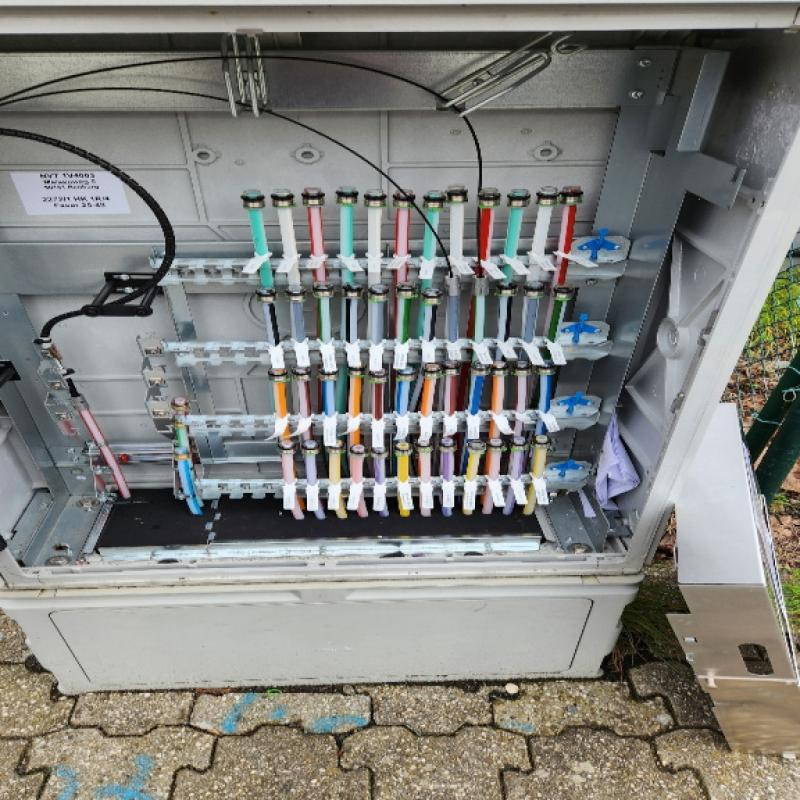NT-Gehause: (0, 2, 800, 692)
